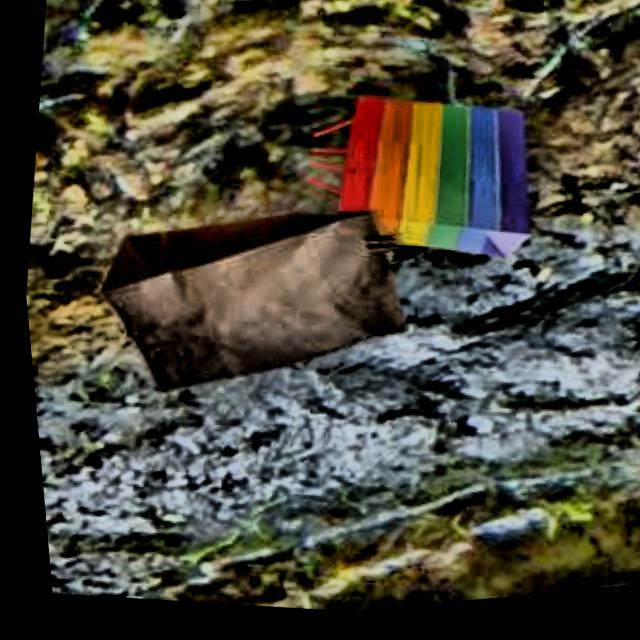Paper-bag: (67, 169, 435, 448), (279, 60, 563, 304)
